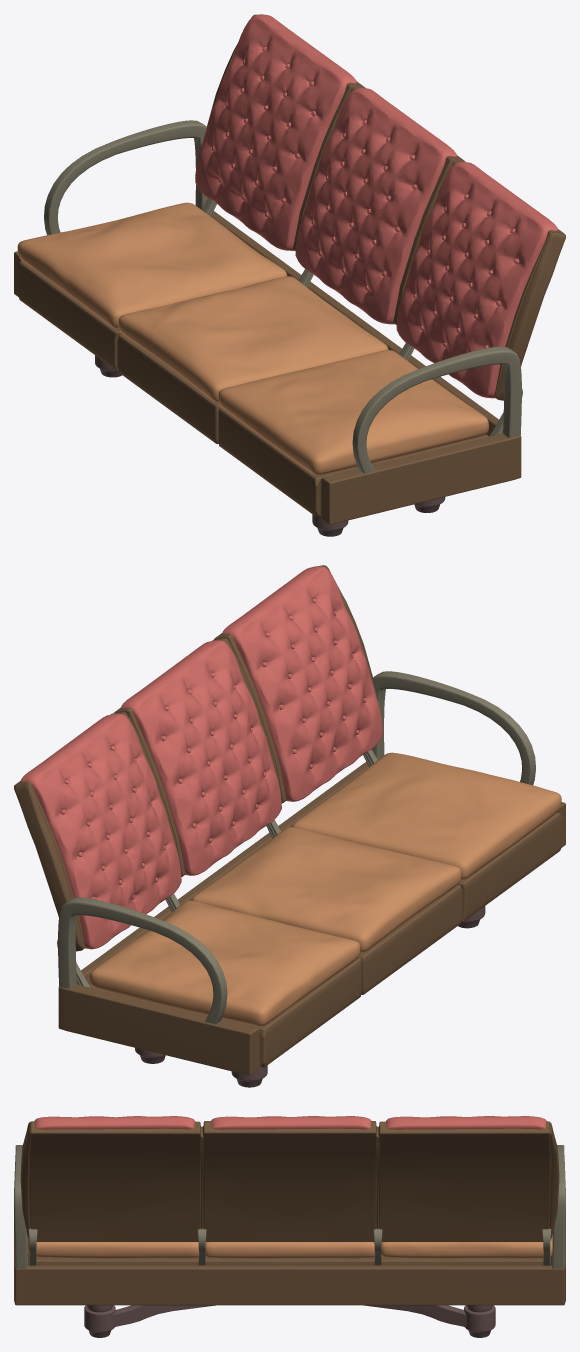
Rendered from Sofa_low.fbx.
3 renders of one model, top to bottom at view 1: azimuth 30°, elevation 25°; view 2: azimuth 150°, elevation 25°; view 3: azimuth 270°, elevation 25°, orthographic. The views are drawn at different scales.
Parts seen in each view (by area): view 1: Cube.013, Cube.019, Cube.002, Cube.005, Cube.012, Cube.011, Cube.010, BezierCurve.005, Cube.008, Cylinder.033; view 2: Cube.013, Cube.005, Cube.002, Cube.019, Cube.011, Cube.012, Cube.010, BezierCurve.005, Cube.008, Cylinder.033; view 3: Cube.008, Cube.013, Cylinder.033, Cube.010, Cube.011, Cube.012, BezierCurve.005, Cube.019, Cube.005, Cube.002, BezierCurve.007, BezierCurve.008 (+2 smaller).
Boxes of the visible parts, left/top/right/bottom form: Cube.013: left=14, top=211, right=521, bottom=524; Cube.019: left=195, top=14, right=356, bottom=250; Cube.002: left=295, top=87, right=457, bottom=324; Cube.005: left=396, top=161, right=558, bottom=398; Cube.012: left=218, top=350, right=488, bottom=474; Cube.011: left=17, top=202, right=287, bottom=328; Cube.010: left=118, top=276, right=388, bottom=401; BezierCurve.005: left=44, top=120, right=521, bottom=473; Cube.008: left=207, top=14, right=565, bottom=400; Cylinder.033: left=95, top=355, right=445, bottom=536; Cube.013: left=58, top=762, right=565, bottom=1075; Cube.005: left=222, top=566, right=382, bottom=801; Cube.002: left=121, top=640, right=281, bottom=875; Cube.019: left=20, top=713, right=181, bottom=949; Cube.011: left=90, top=900, right=360, bottom=1026; Cube.012: left=292, top=752, right=561, bottom=879; Cube.010: left=191, top=827, right=461, bottom=952; BezierCurve.005: left=58, top=671, right=535, bottom=1024; Cube.008: left=14, top=565, right=376, bottom=951; Cylinder.033: left=135, top=906, right=485, bottom=1087; Cube.008: left=20, top=1121, right=559, bottom=1241; Cube.013: left=14, top=1188, right=565, bottom=1305; Cylinder.033: left=84, top=1305, right=495, bottom=1337; Cube.010: left=205, top=1242, right=374, bottom=1258; Cube.011: left=381, top=1235, right=552, bottom=1258; Cube.012: left=28, top=1239, right=198, bottom=1258; BezierCurve.005: left=14, top=1145, right=565, bottom=1268; Cube.019: left=386, top=1116, right=546, bottom=1129; Cube.005: left=34, top=1116, right=195, bottom=1129; Cube.002: left=211, top=1116, right=371, bottom=1129; BezierCurve.007: left=373, top=1228, right=382, bottom=1265; BezierCurve.008: left=28, top=1228, right=37, bottom=1265.
Size of the model in its own units: 119 by 130 by 258.
